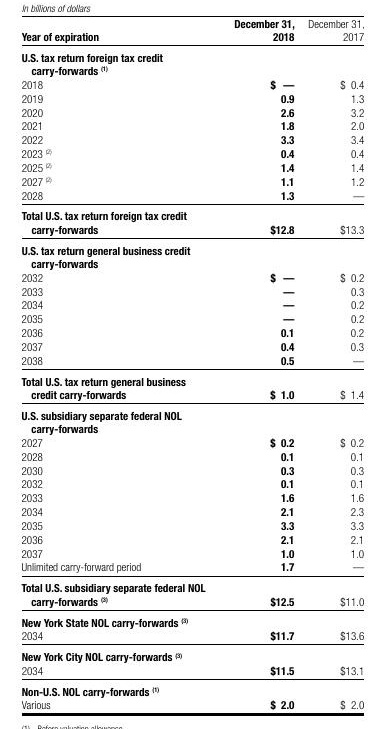table: (0, 0, 384, 729)
